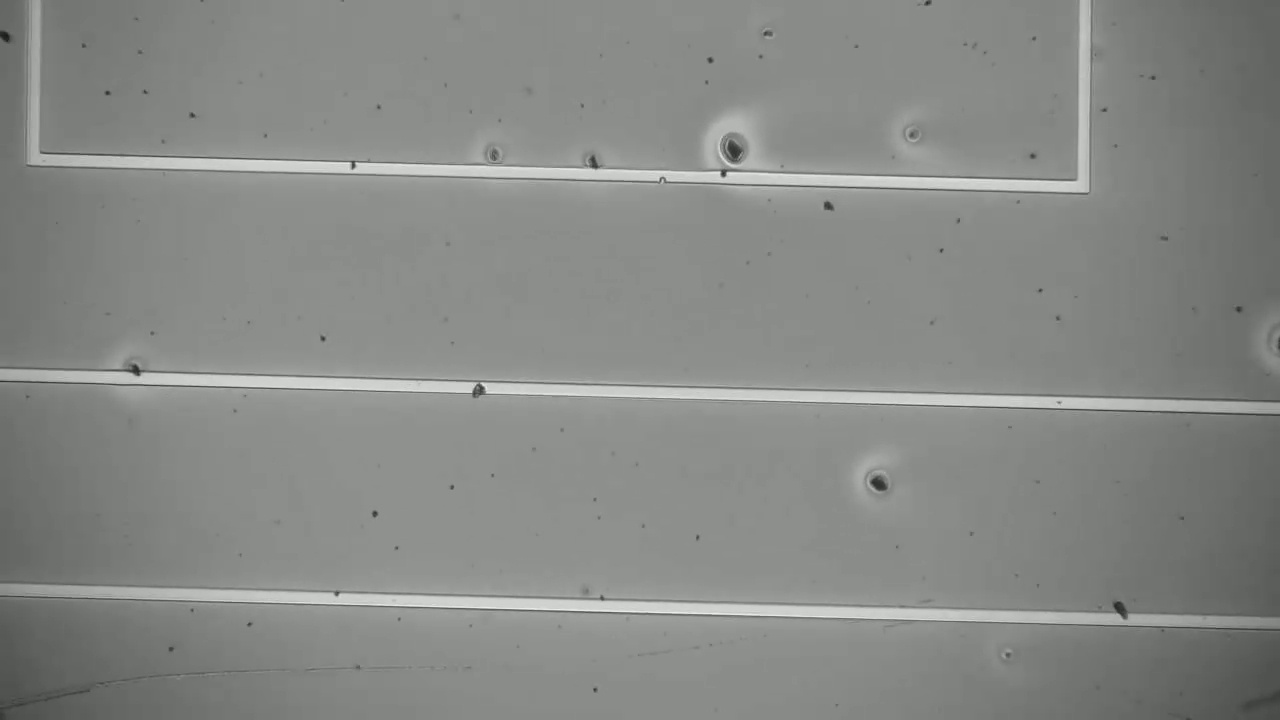edge_bite: (649, 160, 674, 189)
scratch: (0, 667, 177, 719)
stains_enbedded: (120, 356, 150, 398), (1104, 595, 1136, 634), (468, 377, 491, 404), (344, 156, 363, 179), (719, 167, 733, 193)
